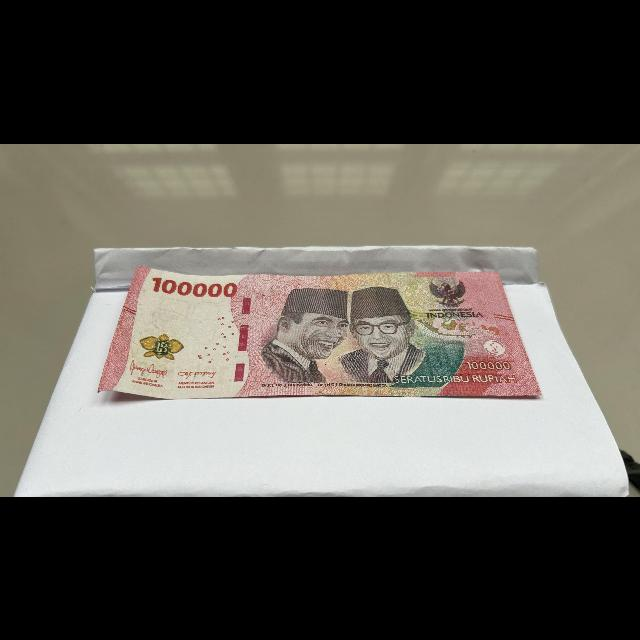Palsu-100k: (92, 260, 548, 399)
Tinta-Palsu-100k: (137, 329, 189, 362)
